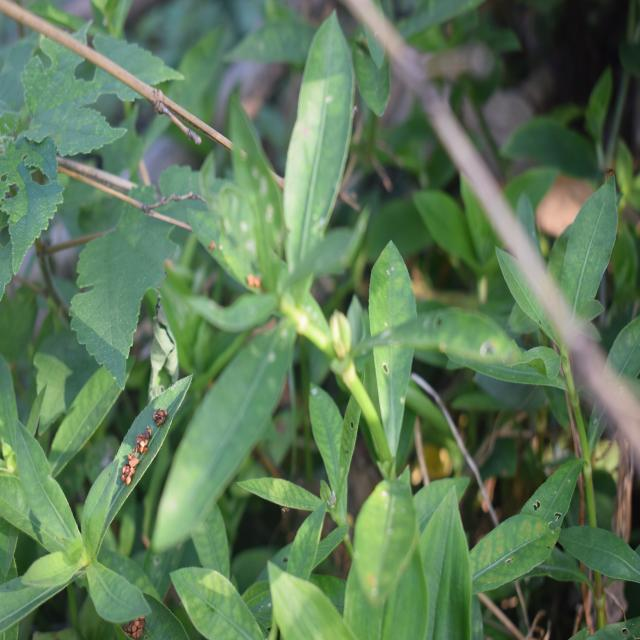Alligatorweed: (154, 28, 398, 512)
